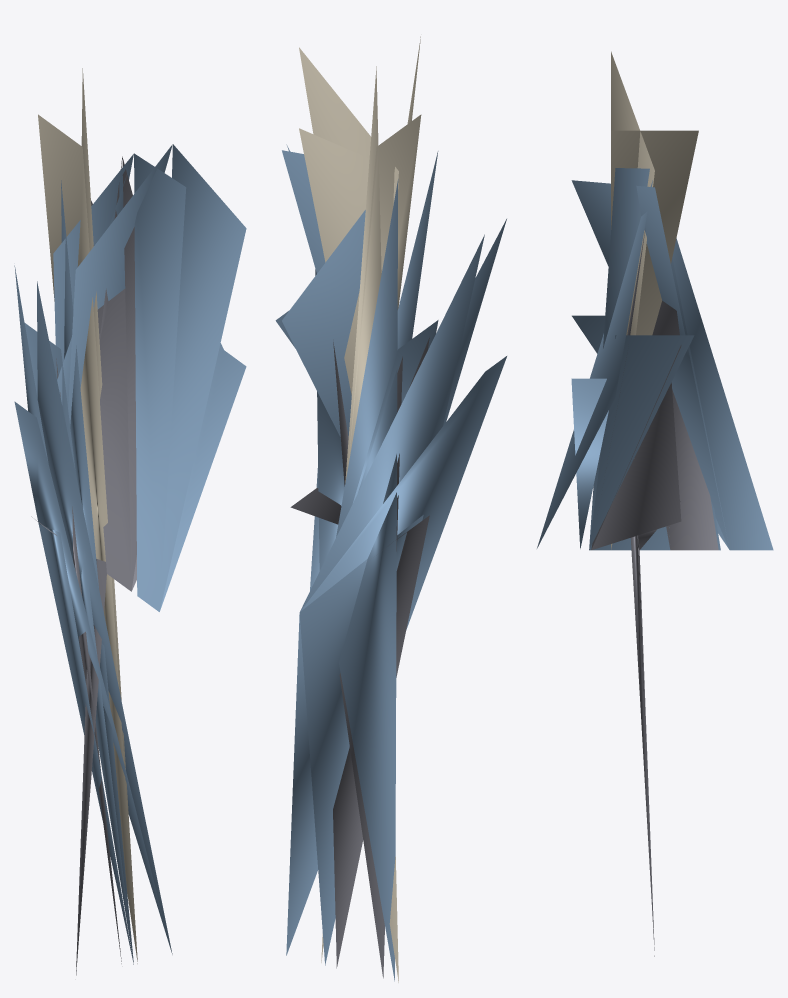
The model's file is player_pickup.glb.
The picture shows the model from 3 angles, left to right: view 1: azimuth 30°, elevation 25°; view 2: azimuth 150°, elevation 25°; view 3: azimuth 270°, elevation 25°; orthographic projection. The views are drawn at different scales.
Parts seen in each view (by area): view 1: player_pickup; view 2: player_pickup; view 3: player_pickup.
Part boxes in pixels (x1,y1,x2,y2): player_pickup: [14, 68, 246, 975]; player_pickup: [275, 36, 506, 982]; player_pickup: [537, 51, 773, 956].
Bounding box in the file's own units: 0.54 × 2.3 × 0.54.
